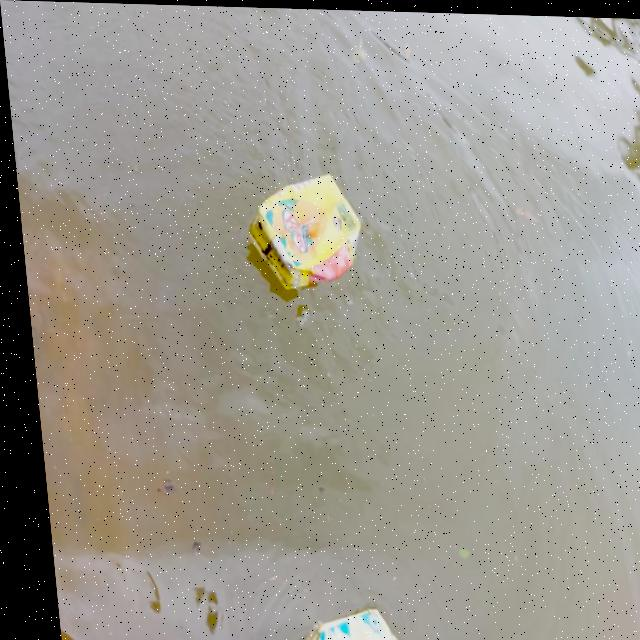paper: (233, 167, 363, 310)
